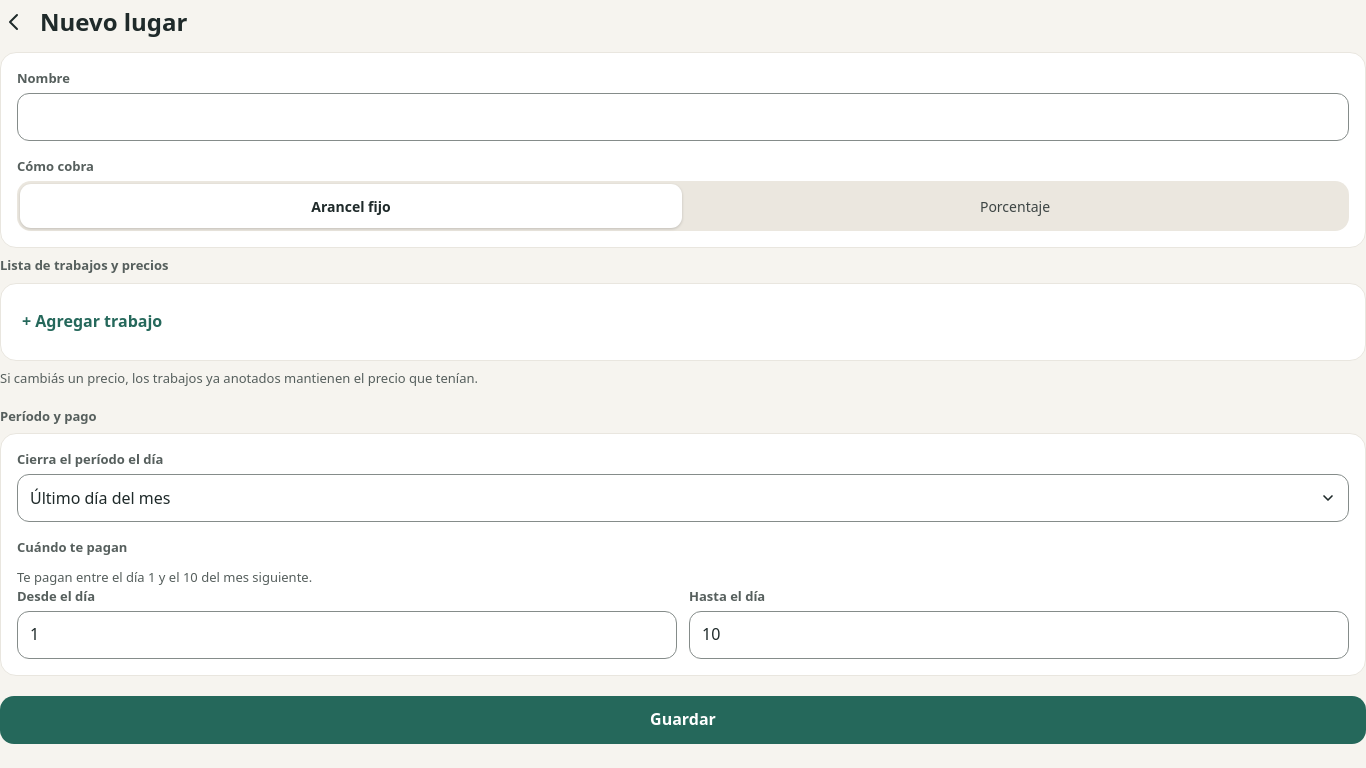
it: volver sin guardar › un lugar nuevo a medio cargar también pregunta
The width and height of the screenshot is (1366, 768).
Type "Consultorio" into the field labelled "Nombre" at (683, 117), box [17,93,1349,141]
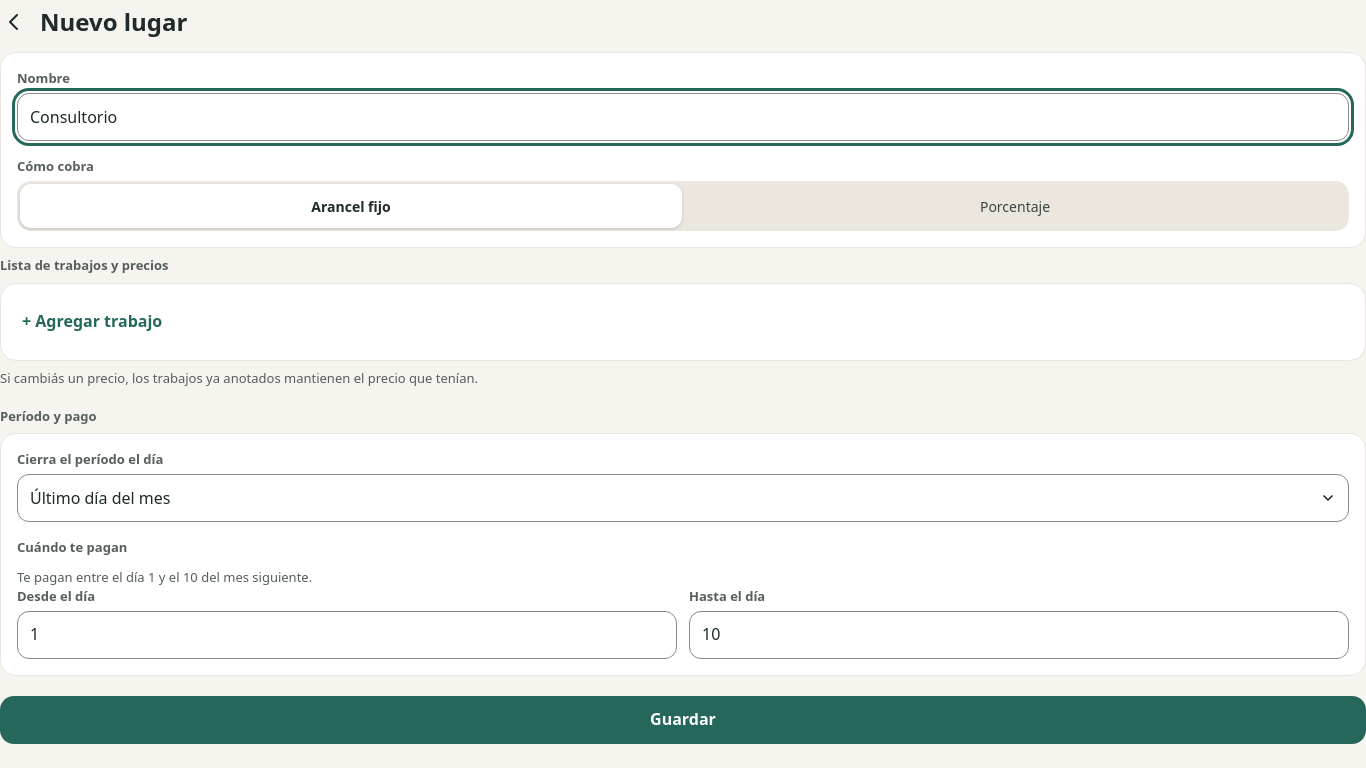
Click the link named "Volver a Lugares" at (14, 22), box [2,10,26,34]
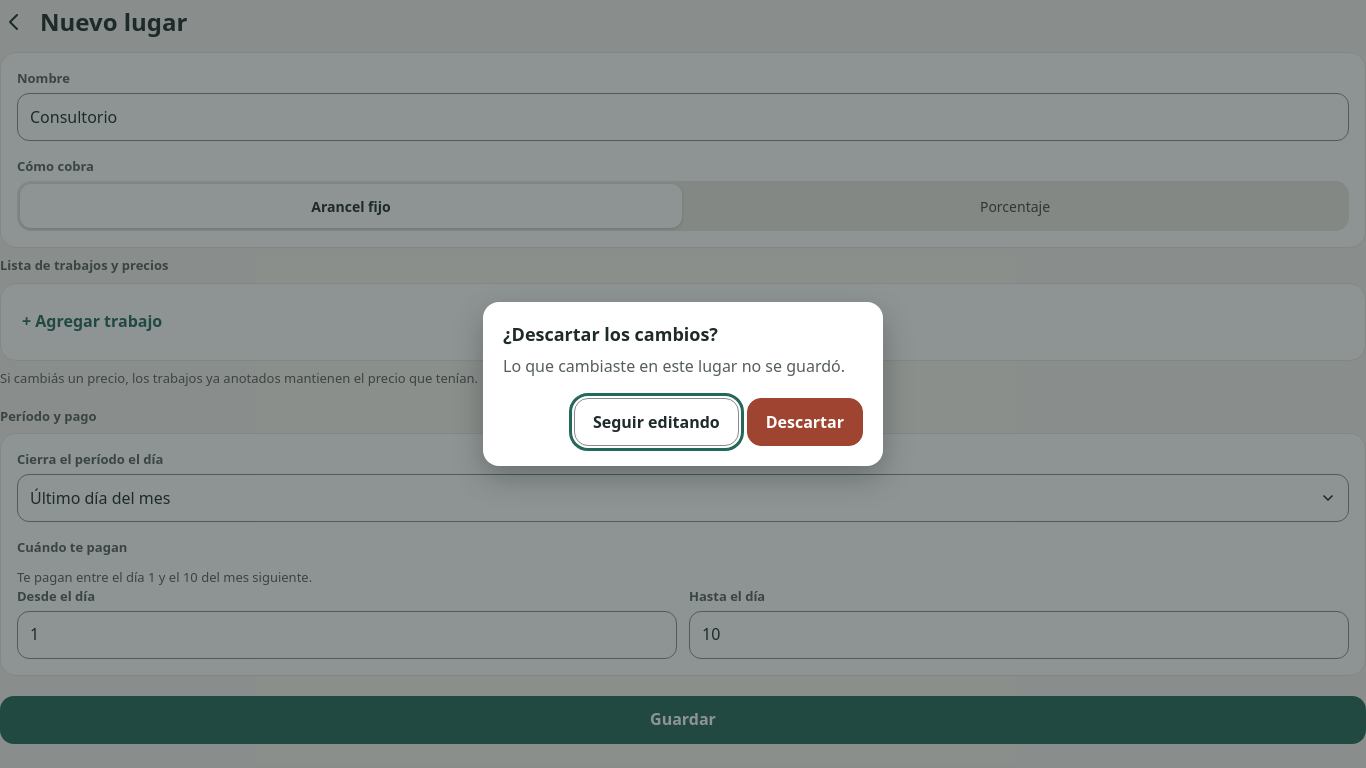
Now the dialog "¿Descartar los cambios?" is shown, box [483,302,883,466]
